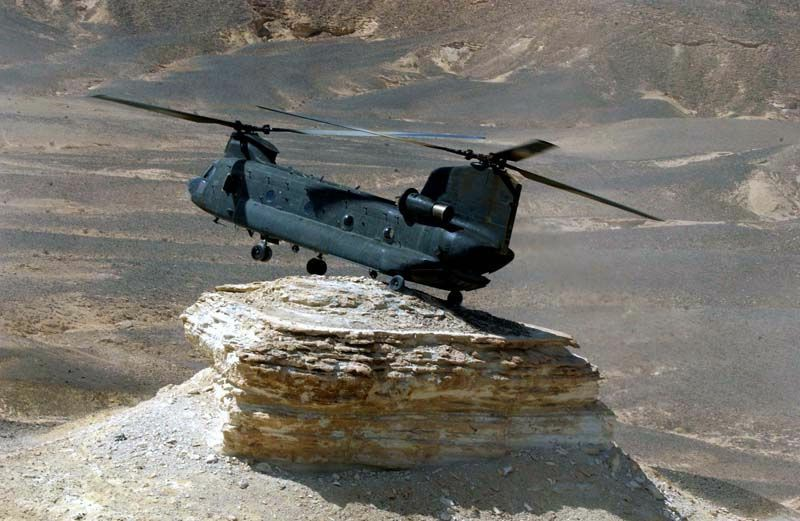chinook: (132, 98, 591, 293)
